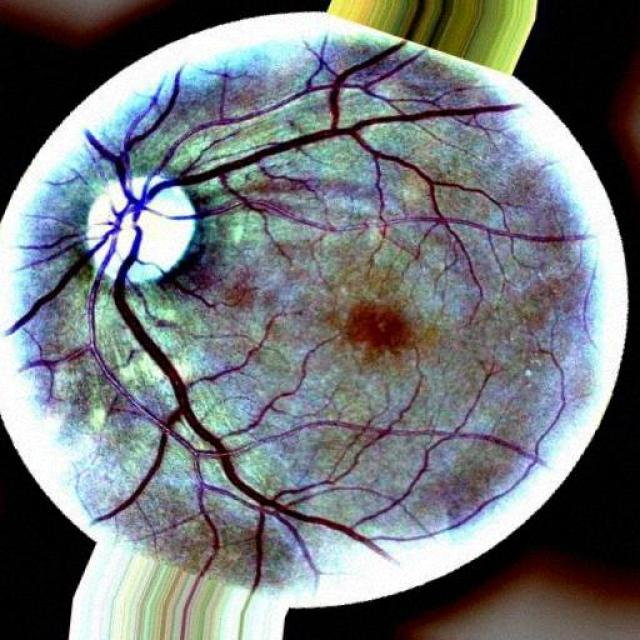Macula: (345, 301, 411, 359)
Nerves: (112, 254, 384, 554), (188, 106, 520, 188), (85, 69, 181, 207), (8, 238, 102, 338)
Optic Disk: (95, 188, 195, 280), (86, 180, 126, 242), (129, 178, 160, 198)
